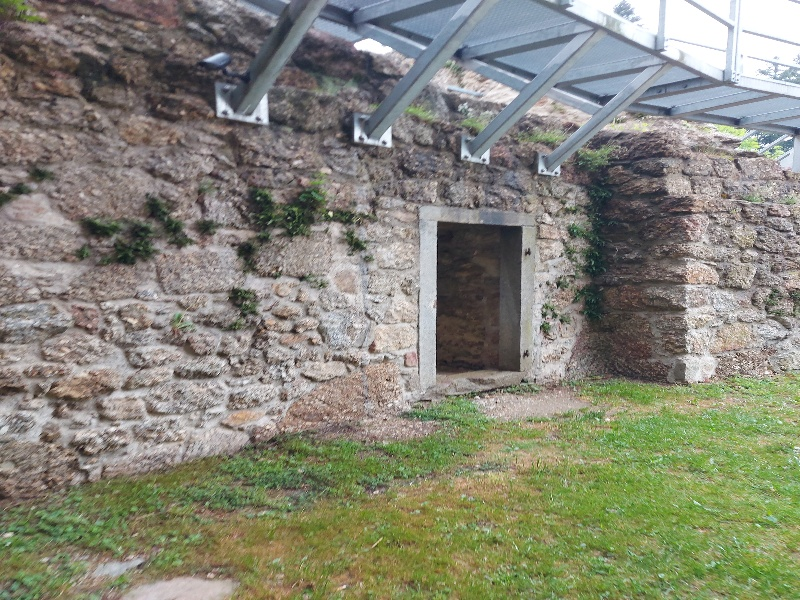door1: (411, 198, 564, 409)
